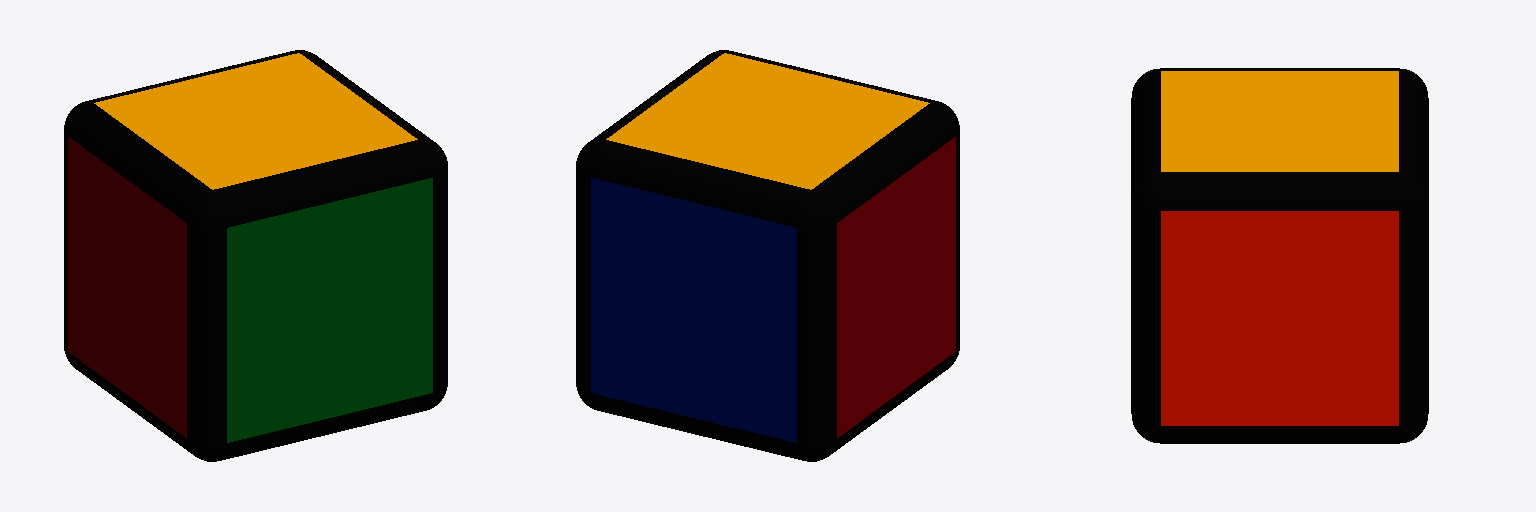
Rendered from Cubelet.obj.
3 views of the same model, side by side, from view 1: azimuth 30°, elevation 25°; view 2: azimuth 150°, elevation 25°; view 3: azimuth 270°, elevation 25° (orthographic).
Parts seen in each view (by area): view 1: Cube; view 2: Cube; view 3: Cube.
Part boxes in pixels (bbox=[...]): Cube: bbox=[64, 50, 447, 461]; Cube: bbox=[576, 50, 959, 461]; Cube: bbox=[1131, 68, 1428, 443].
Size of the model in its own units: 1 by 1 by 1.